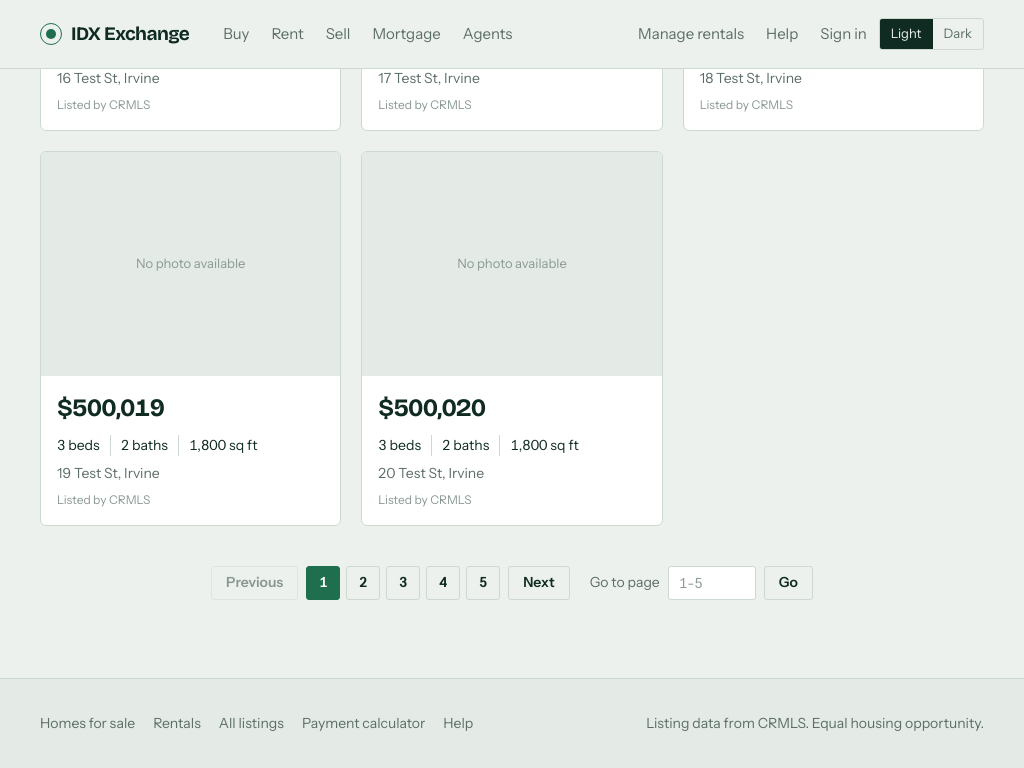
Test: ListingsPage pagination › Previous is disabled on page 1 and Next is disabled on the last page
(page scrolled)
Check: the button "Previous" is disabled, box [211, 566, 298, 600]
Click the button named "Page 5": (483, 583) [466, 566, 500, 600]
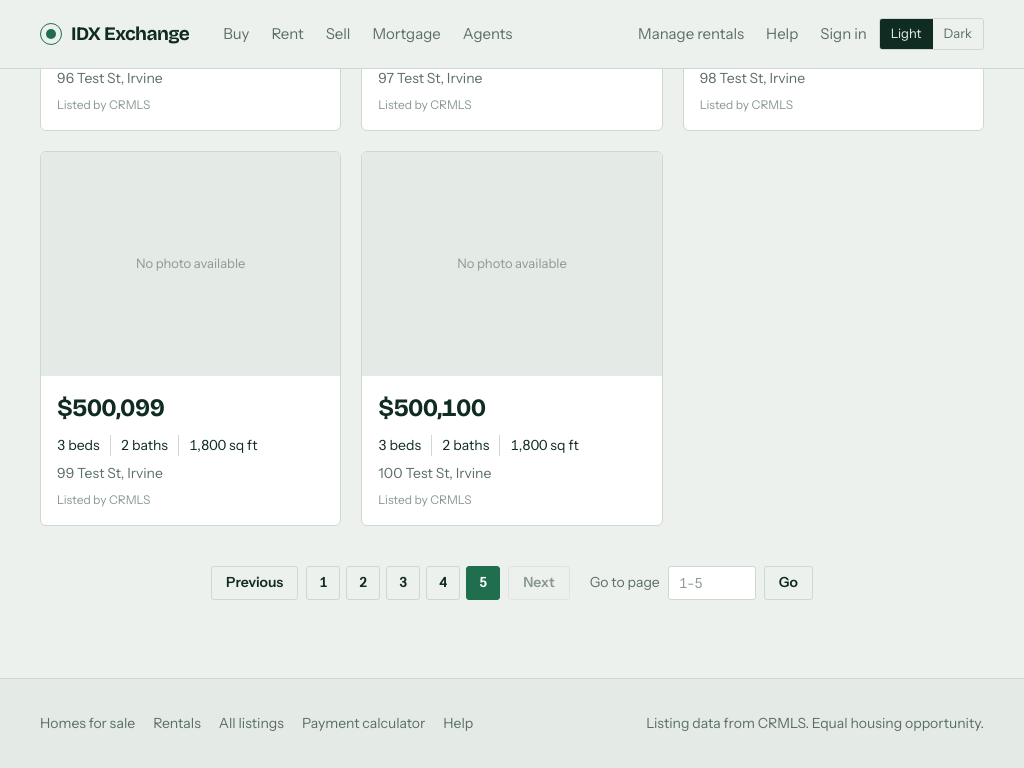
Check: the button "Next" is disabled, box [508, 566, 570, 600]
Check: the button "Previous" is enabled, box [211, 566, 298, 600]
